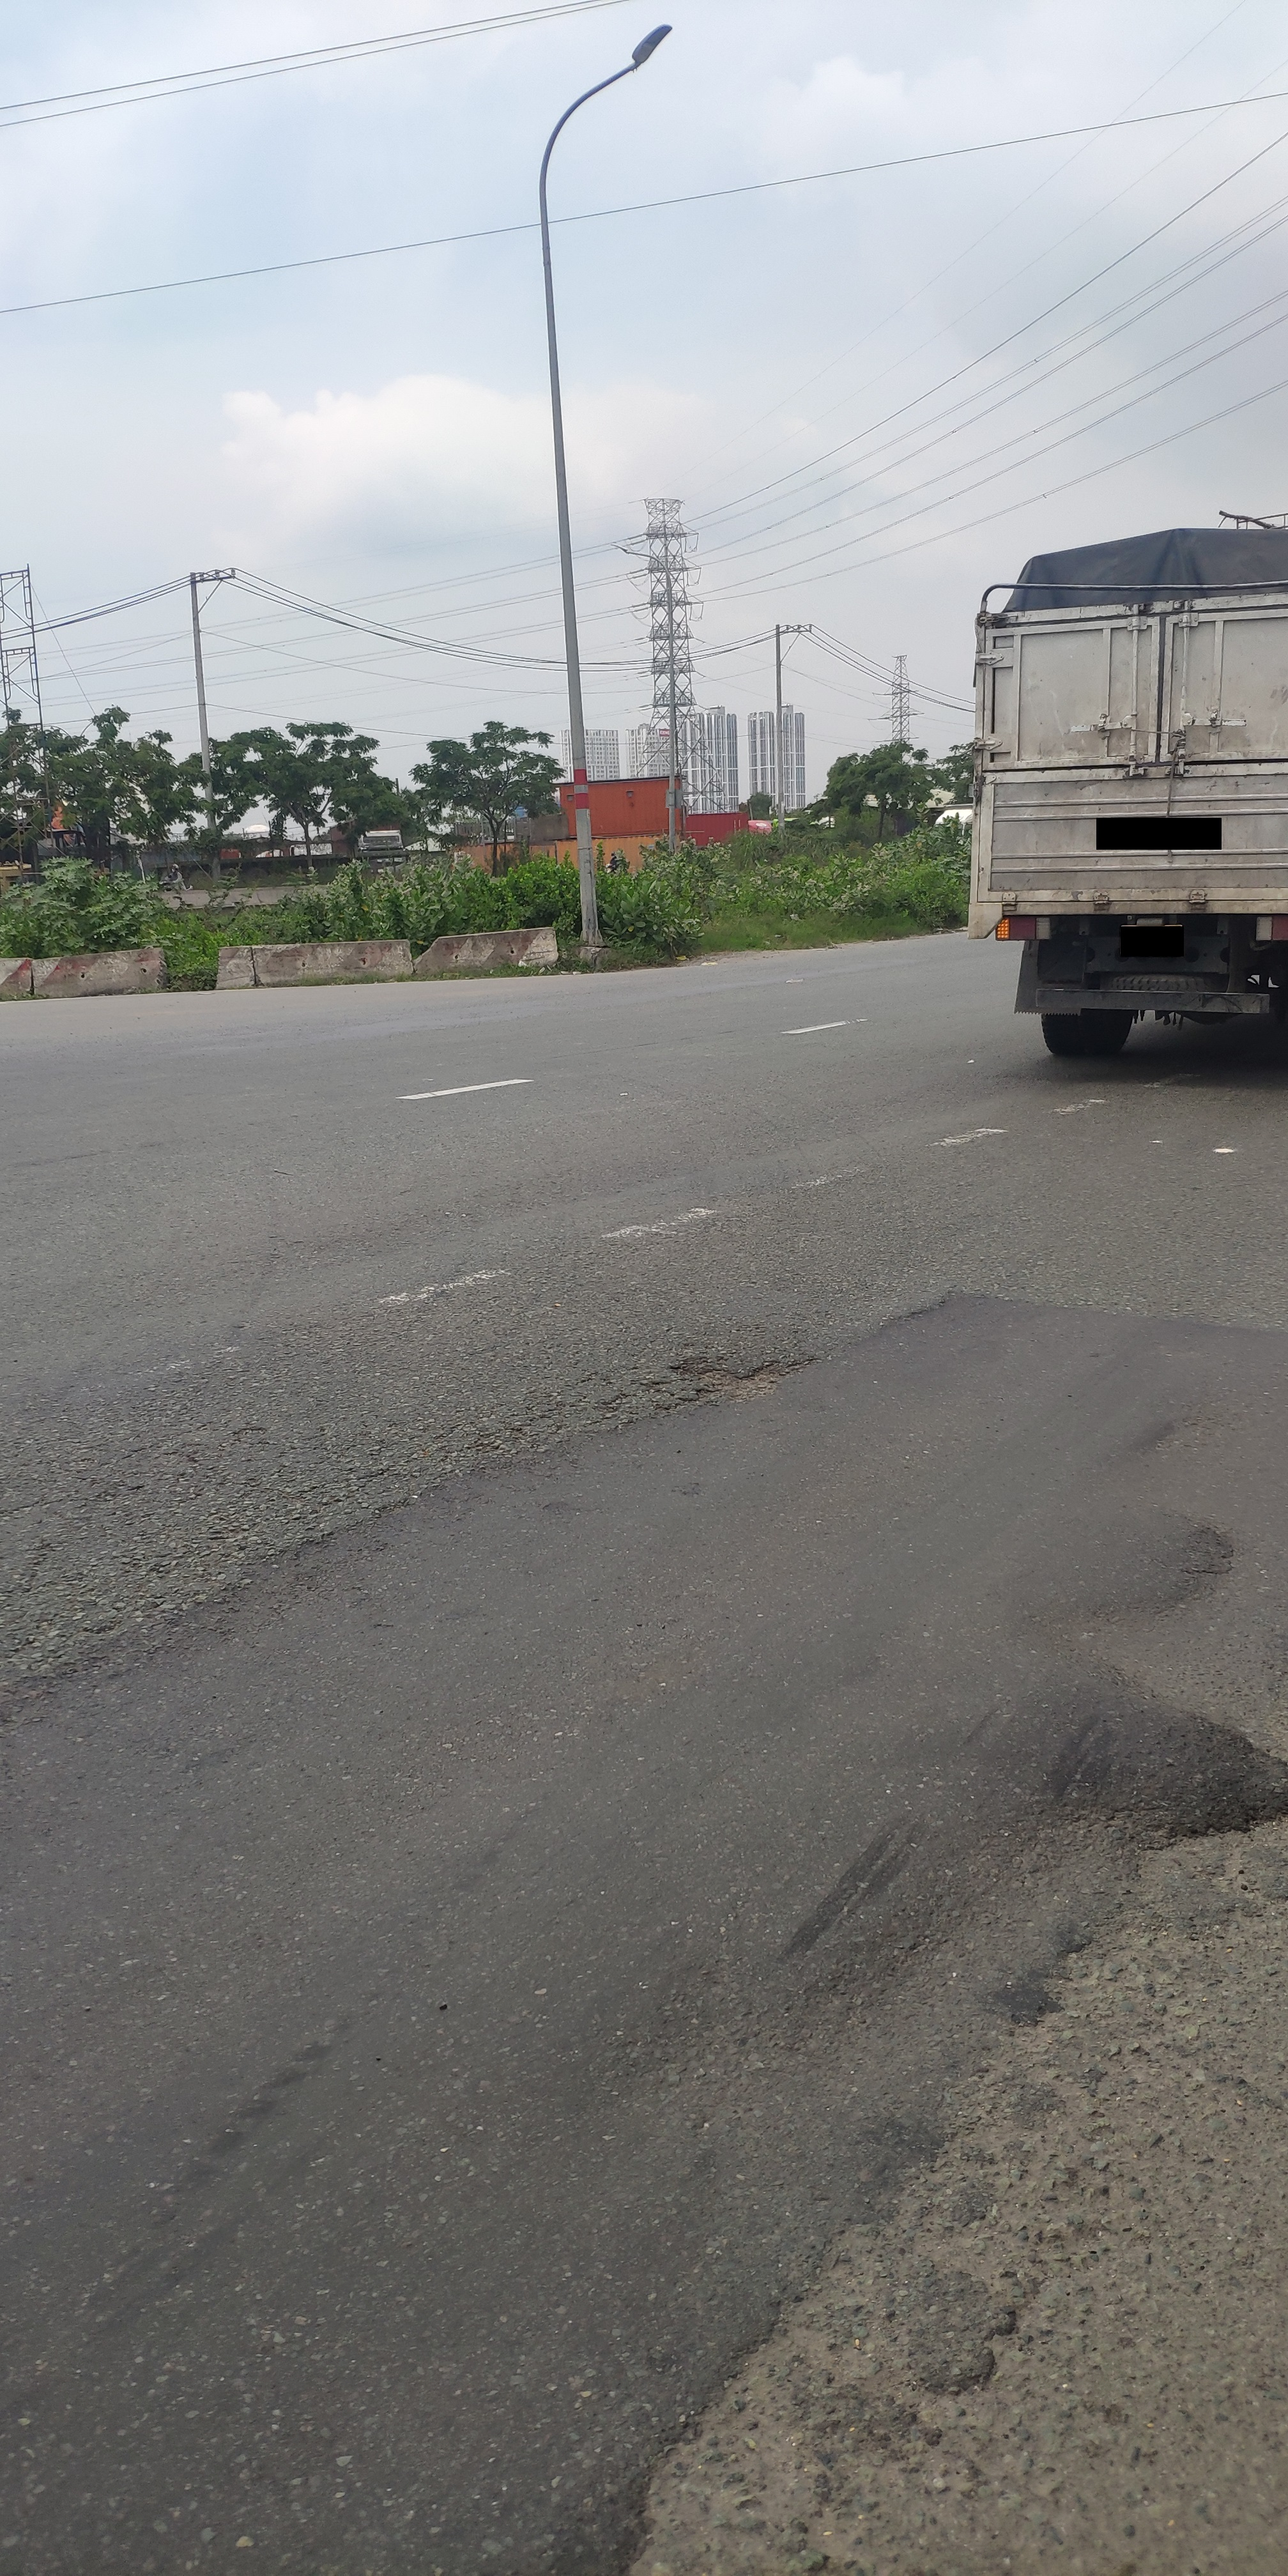hole: (670, 1347, 800, 1413)
